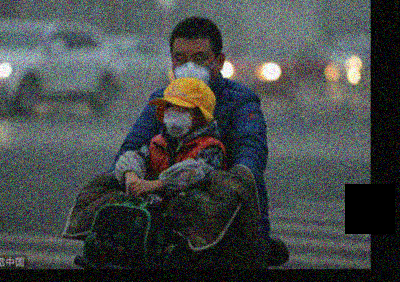with_mask: (172, 48, 216, 90), (160, 102, 194, 137)
